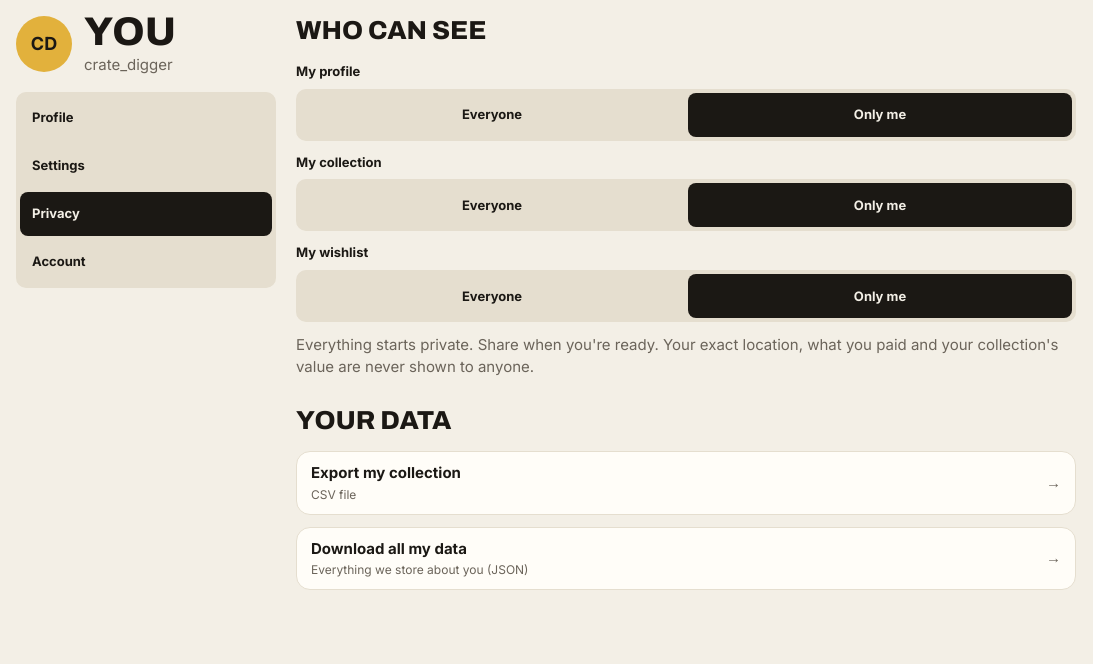
Test: You › AC-13 privacy starts at "Only me" and offers Everyone or Only me
This screenshot has width=1093, height=664.
Click the 2nd button "Everyone": (492, 205) [300,183,684,227]
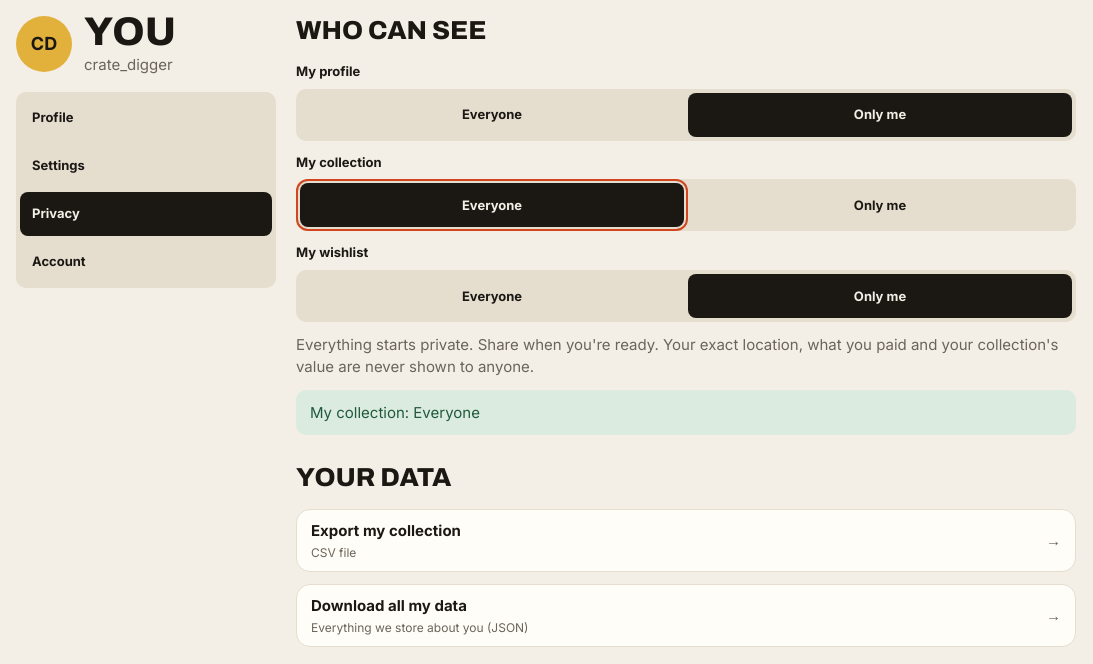
Expected: the message reads "My collection: Everyone", [310,403,480,422]
